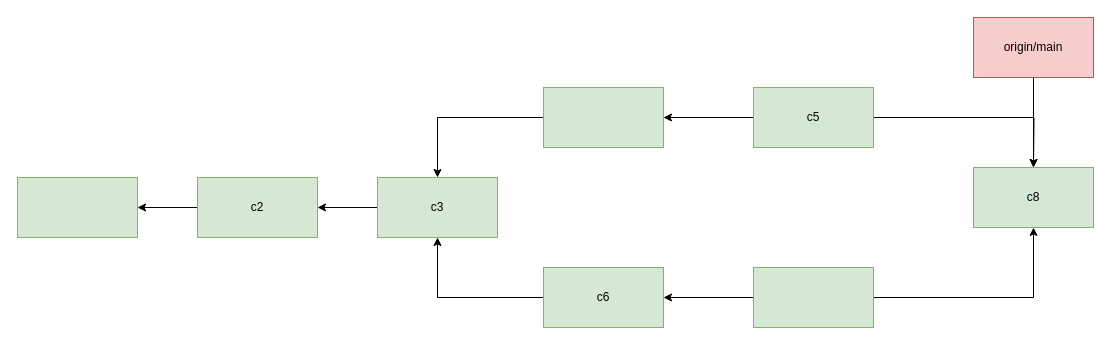
This 1111x345 diagram has some shape labels left out. Each missing label, with the centre of its shape:
"c1" goes at [77,207].
"c4" goes at [603,117].
"c7" goes at [813,297].
